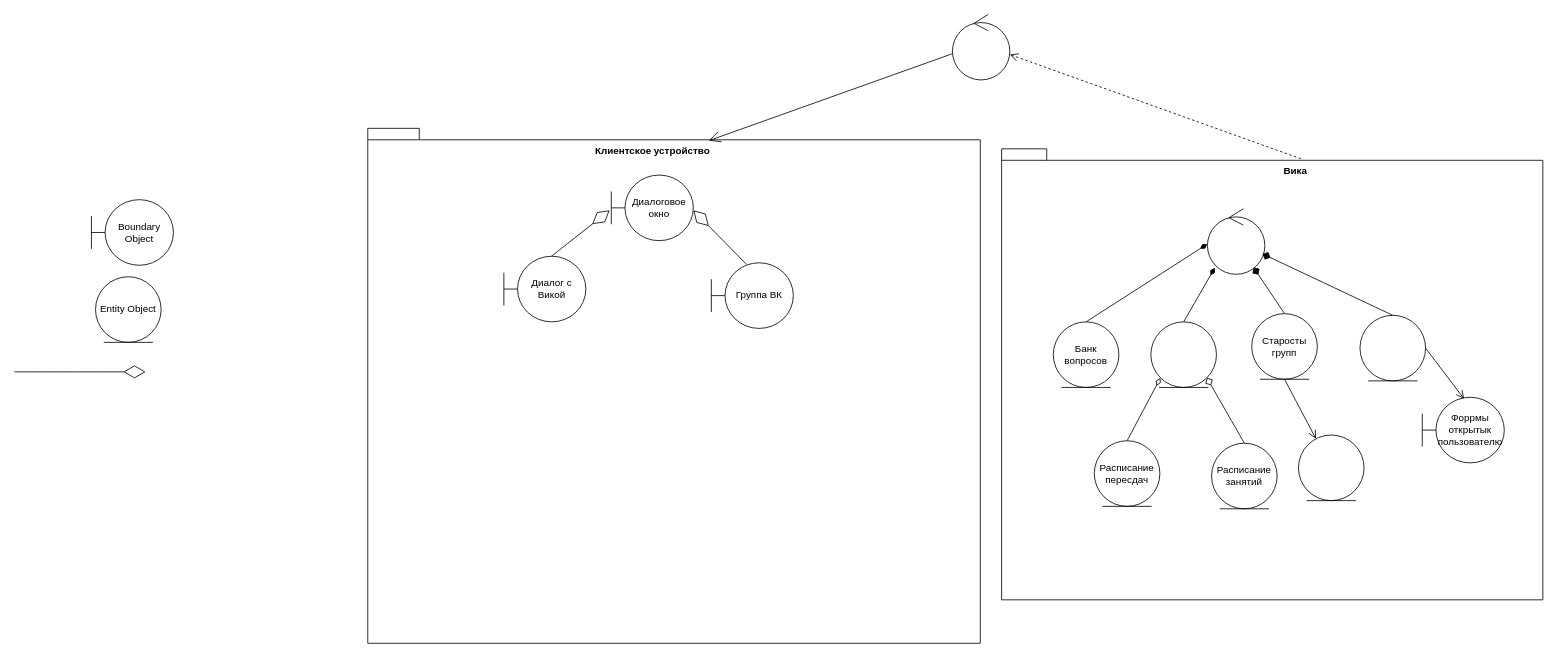
Some shapes in this 1557 by 658 pixel diagram are drawn without their labels. Each missing label, with the centre of its shape:
"Расписание" goes at (1183,354).
"Рассылки старостам" goes at (1331,467).
"Сервер ВК" goes at (981,47).
"Система управления вика" goes at (1236,241).
"Формы" goes at (1392,347).
